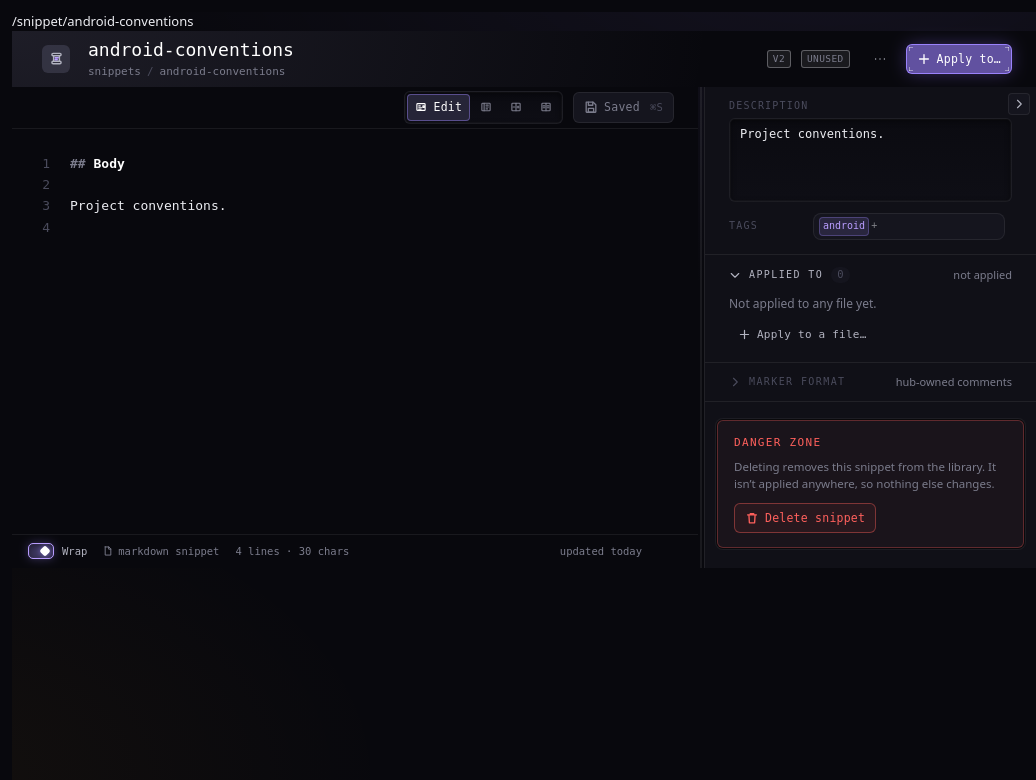
Test: SnippetEditor — header rename › preserves a dirty description buffer across the rename navigation
The width and height of the screenshot is (1036, 780).
Step 1. Replace the text in the text box with placeholder "One line — what this snippet instructs" below "description" with "A hand-edited description." → coordinates (870, 160), box [729,118,1012,202]
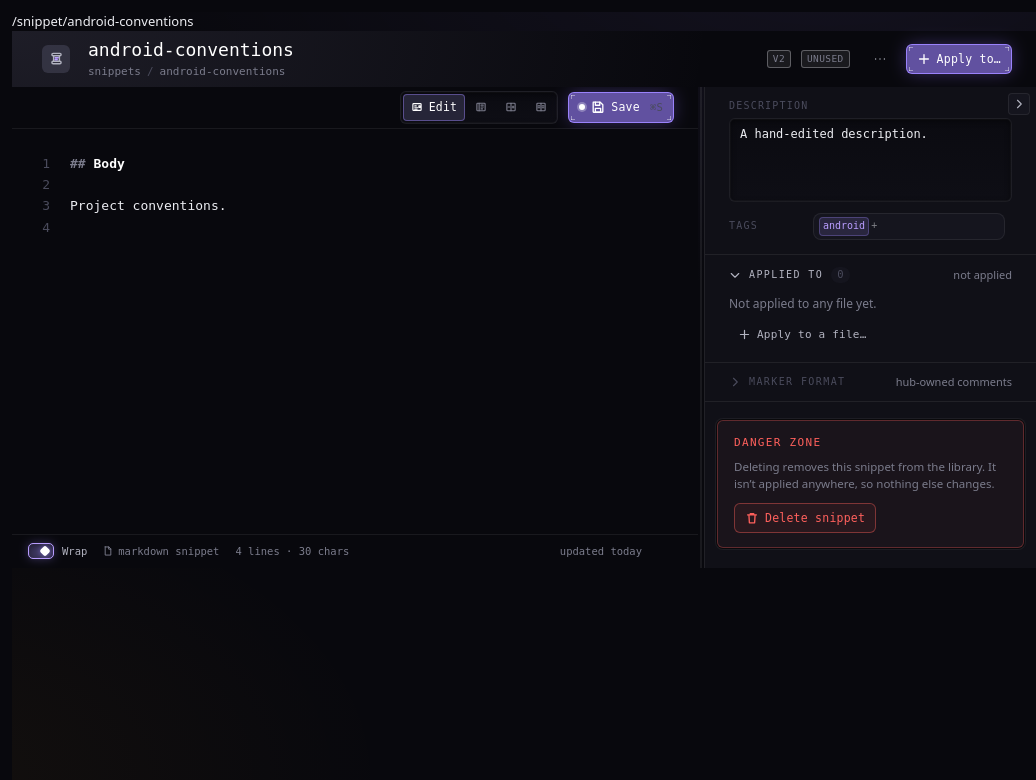
Step 2. Click the button with aria-label "Rename snippet name: android-conventions" → coordinates (200, 50), box [84,38,316,62]
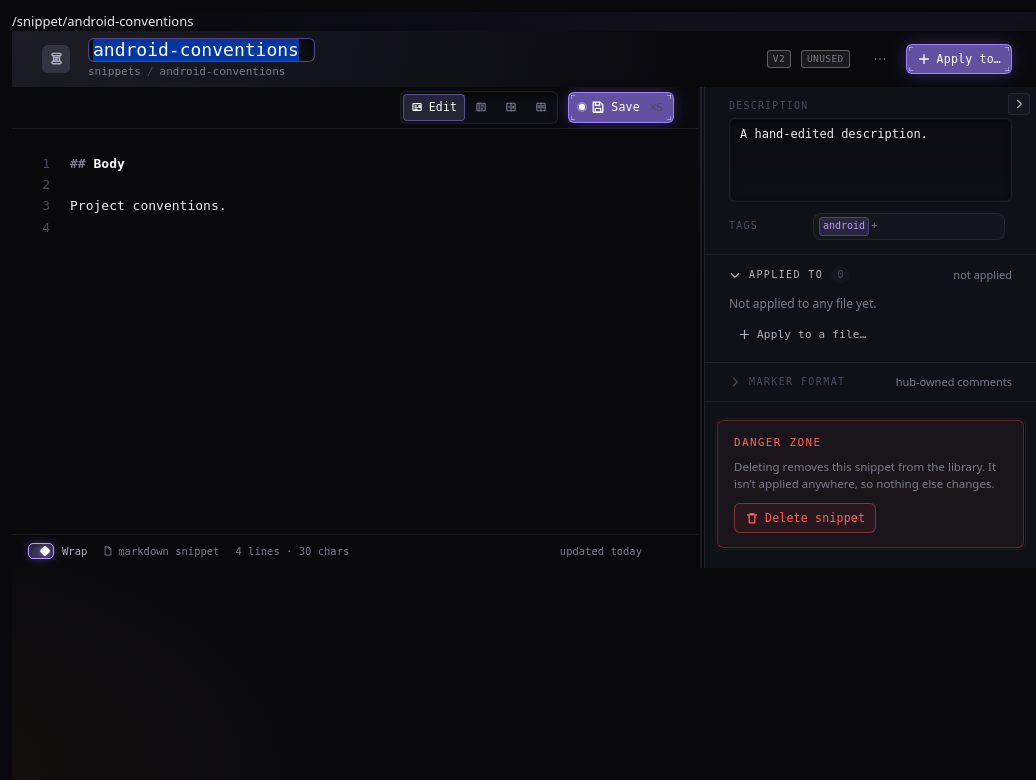
Step 3. Clear the field named "Snippet name" → coordinates (201, 50), box [88,38,315,62]
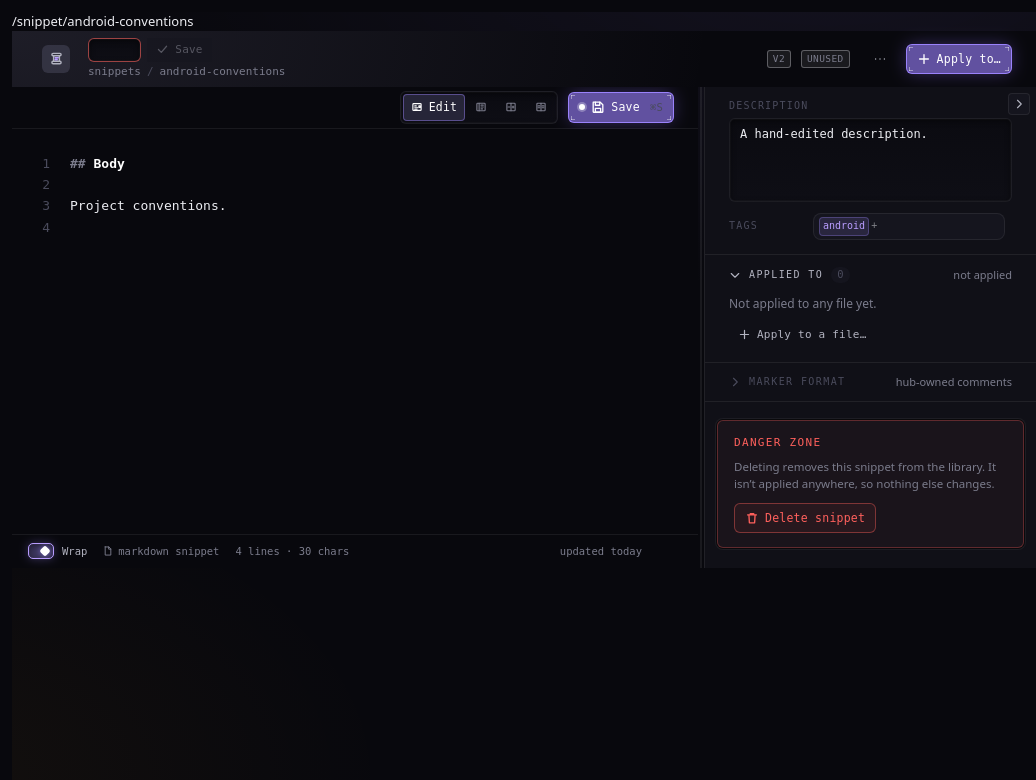
Step 4. Type "android-guidelines" into the field named "Snippet name" → coordinates (115, 50), box [88,38,141,62]
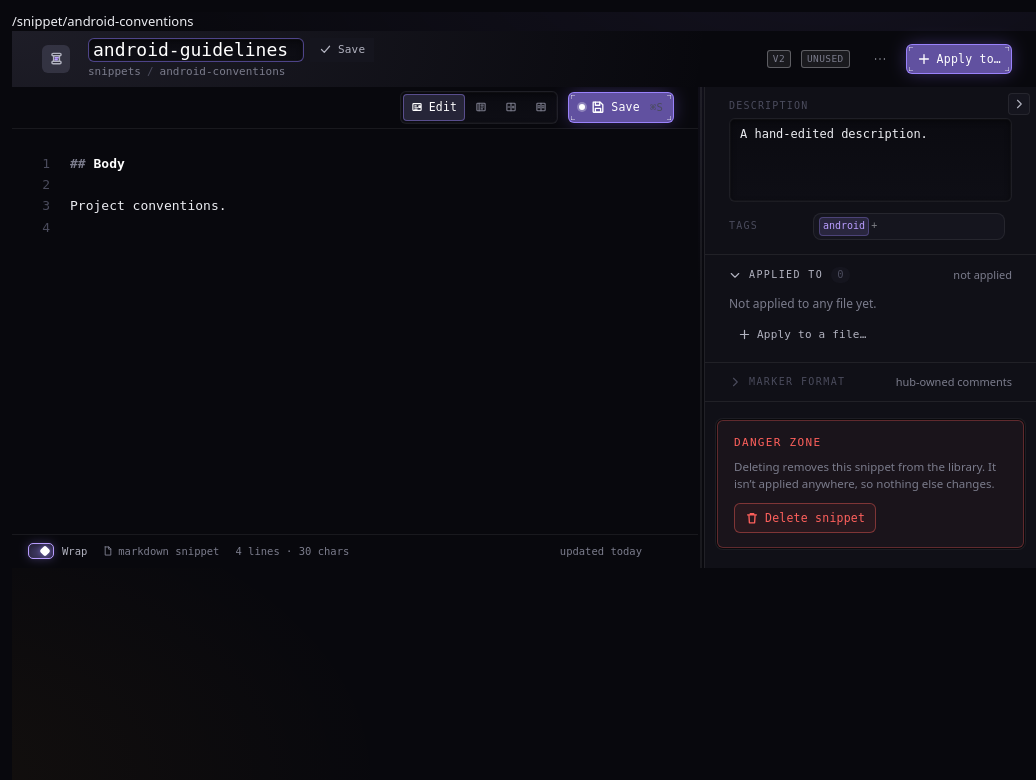
Step 5. Press Enter
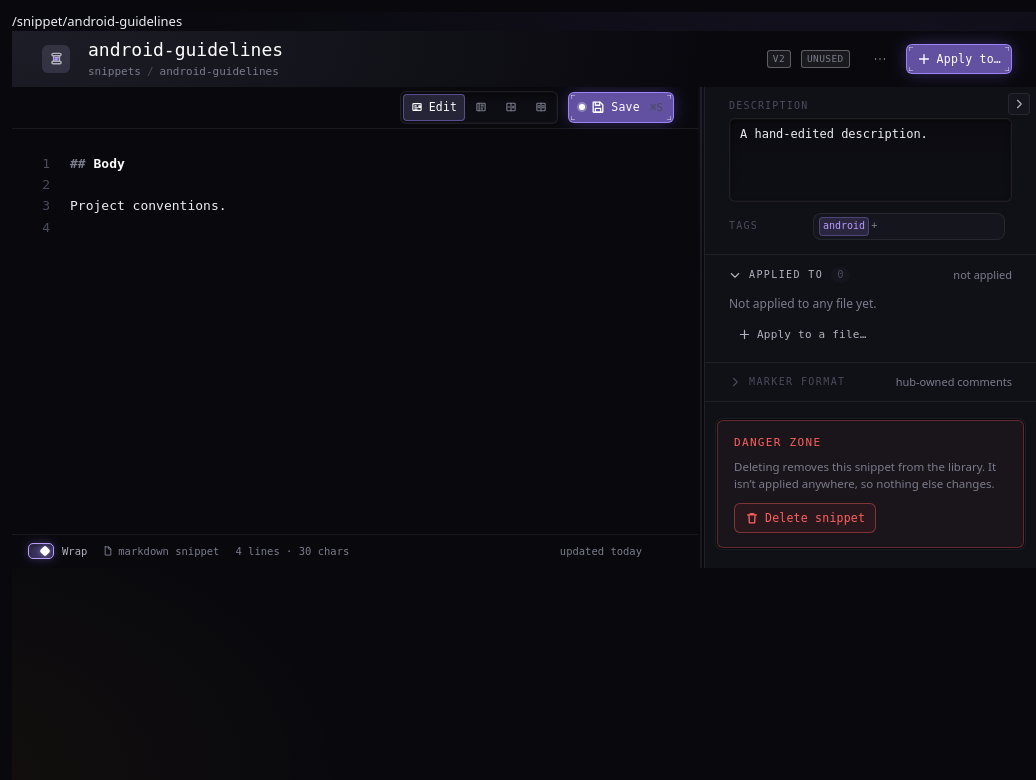
Now the text box with placeholder "One line — what this snippet instructs" below "description" holds "A hand-edited description.", box [729,118,1012,202]
Now the text with test id "loc" reads "/snippet/android-guidelines", box [12,12,182,30]
